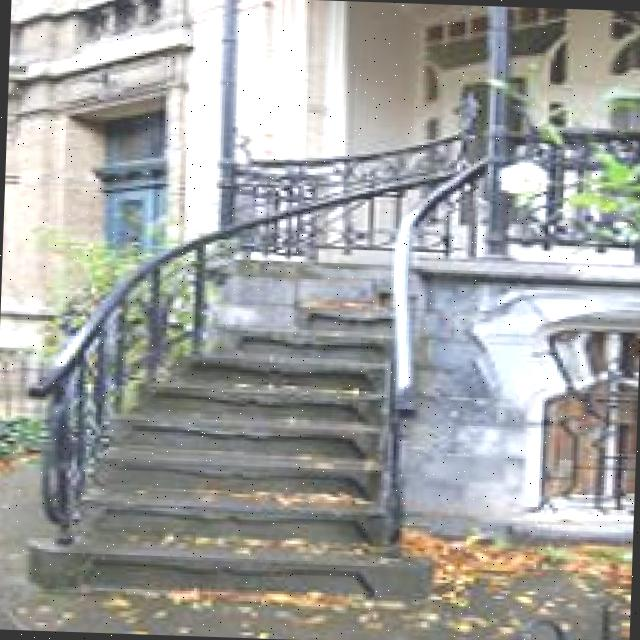stairs: (21, 278, 442, 602)
